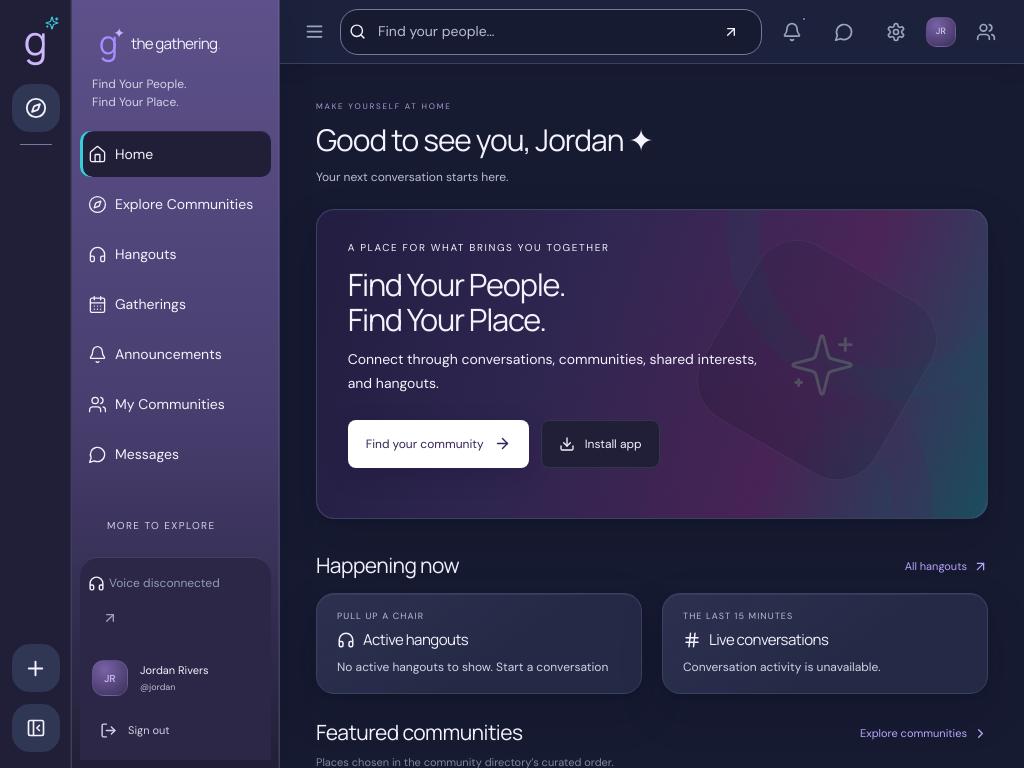
it: Next.js interface foundation › closes notifications with Escape and restores focus
Click the button named "Notifications".
click(792, 32)  # box [770,10,814,54]
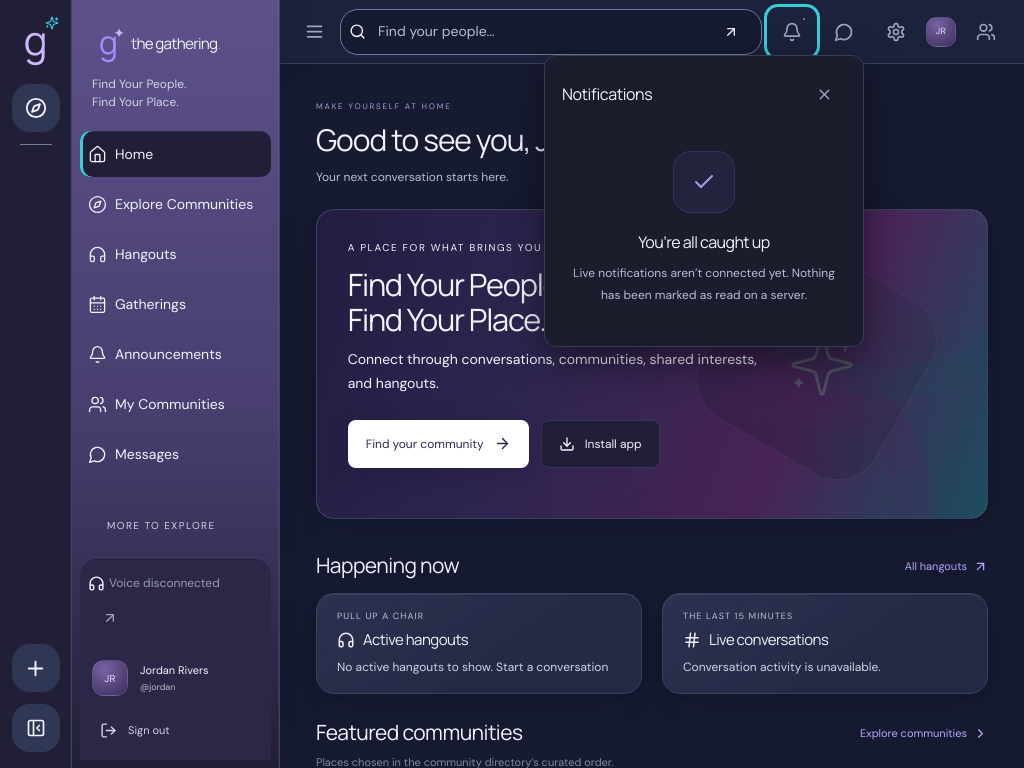
Now the element "Notifications" is shown, box [544,54,864,346]
Press Escape
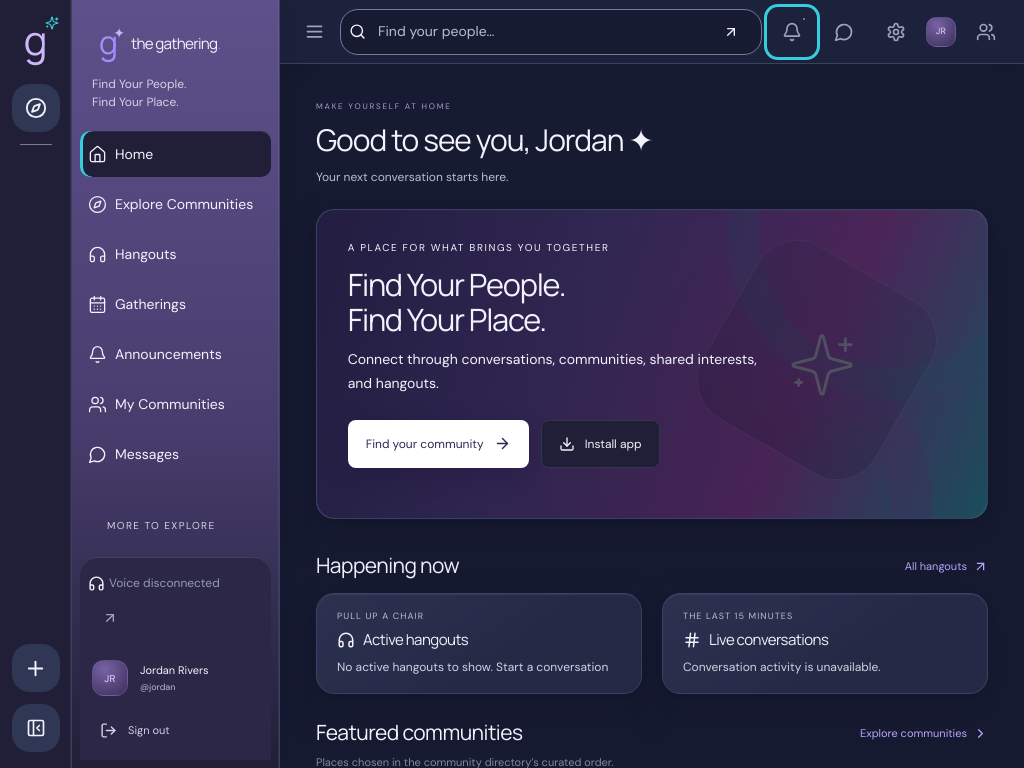
Now the heading "Notifications" is gone
